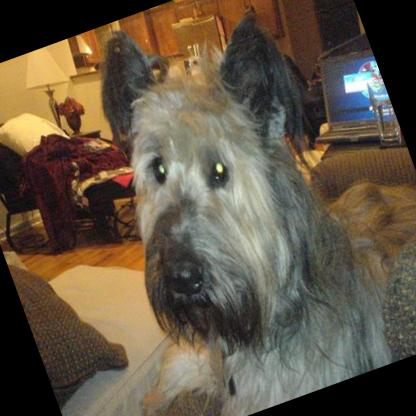briard: (2, 0, 416, 416)
